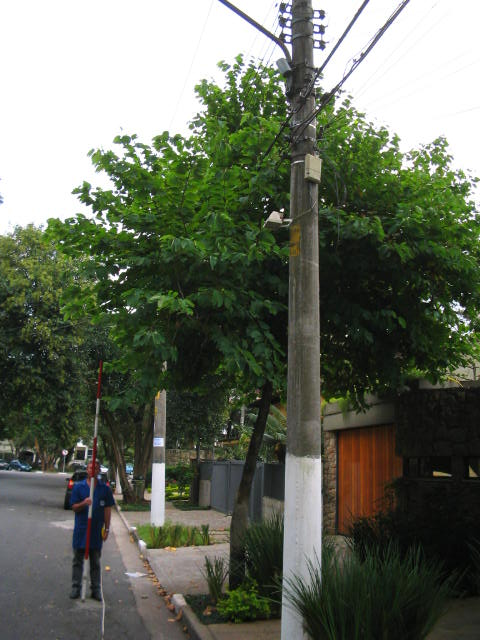crown: (56, 55, 476, 409)
stem: (217, 397, 280, 598)
stick: (75, 359, 112, 600)
tree: (53, 55, 480, 602)
